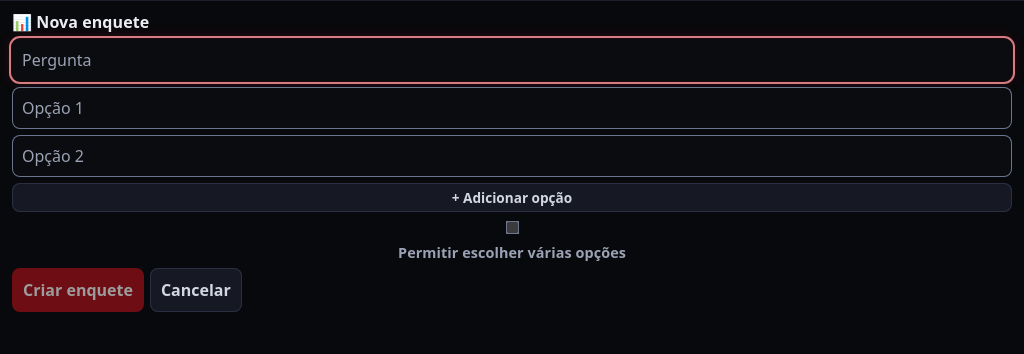
Test: formulário de enquete › mostra o erro do servidor e continua editável
Type "q" into the field named "Pergunta da enquete" at (512, 60), box x1=12 y1=39 x2=1012 y2=81
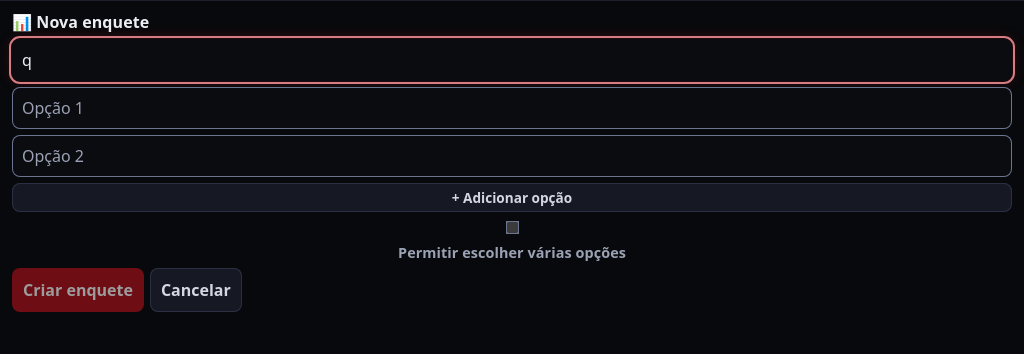
Type "a" into the field labelled "Opção 1" at (512, 108), box x1=12 y1=87 x2=1012 y2=129
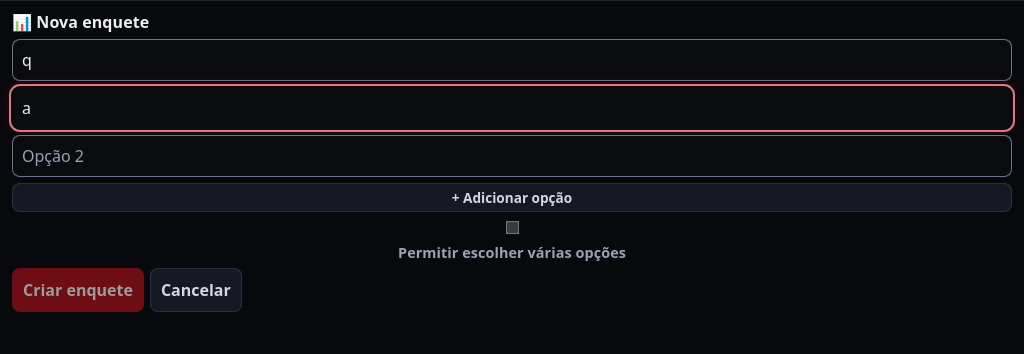
Type "b" into the field labelled "Opção 2" at (512, 156), box x1=12 y1=135 x2=1012 y2=177
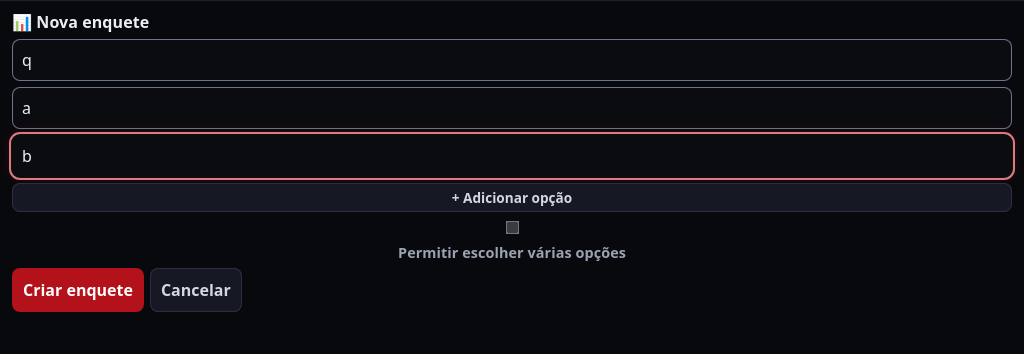
Click the button "Criar enquete" at (78, 290), box x1=12 y1=268 x2=144 y2=312
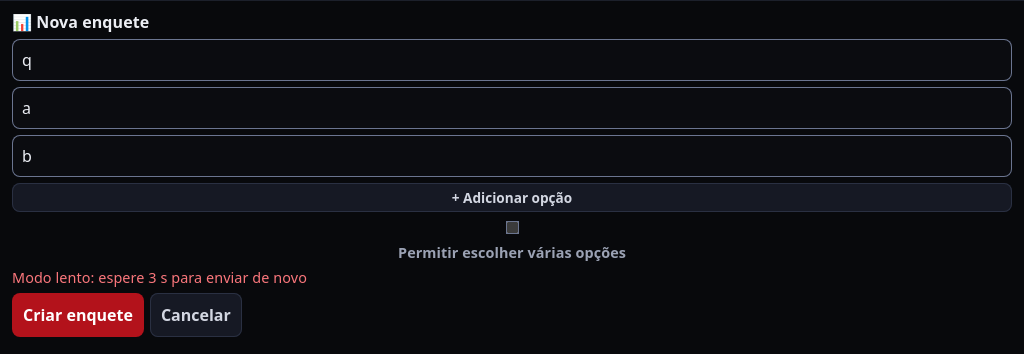
expect the button "Criar enquete" is enabled: met, box x1=12 y1=293 x2=144 y2=337
expect the message shows "Modo lento": met, box x1=12 y1=268 x2=307 y2=287
